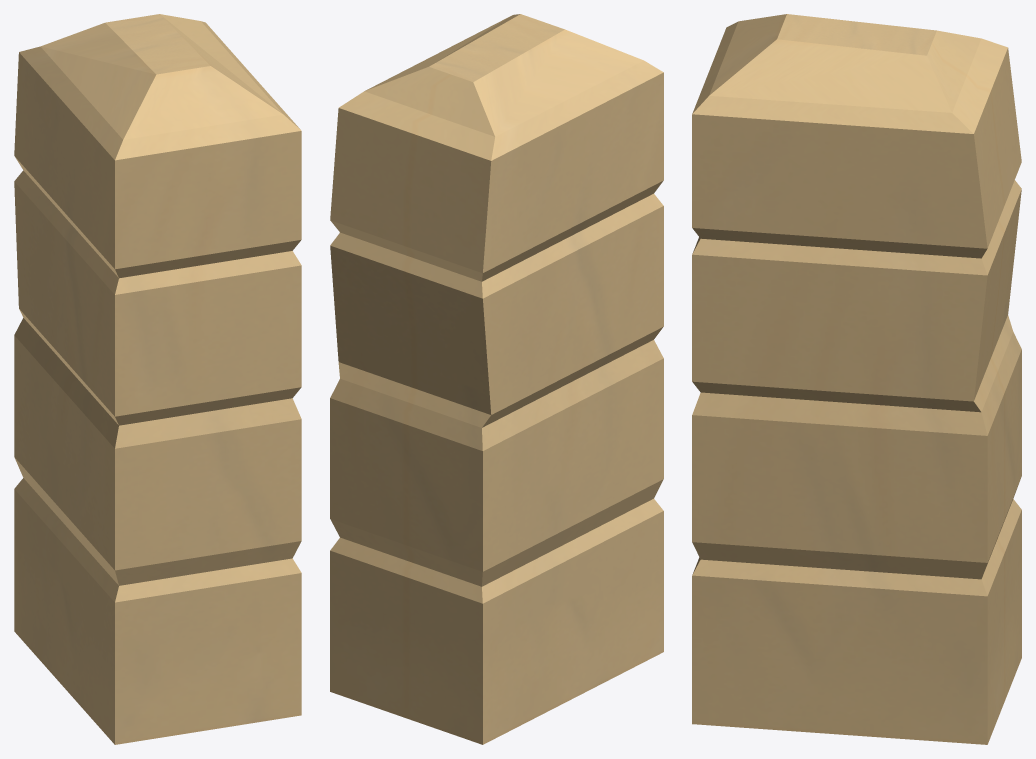
File: Column4A.FBX
3 renders of one model, left to right at view 1: azimuth 30°, elevation 25°; view 2: azimuth 150°, elevation 25°; view 3: azimuth 270°, elevation 25°, orthographic. The views are drawn at different scales.
Visible parts, largest first — view 1: Column4A; view 2: Column4A; view 3: Column4A.
Part boxes in pixels (x1,y1,x2,y2): Column4A: (14, 14, 301, 744); Column4A: (330, 14, 663, 744); Column4A: (692, 14, 1021, 744).
Bounding box in the file's own units: 8.95 × 11.59 × 25.57.
1 material, 1 textured.
